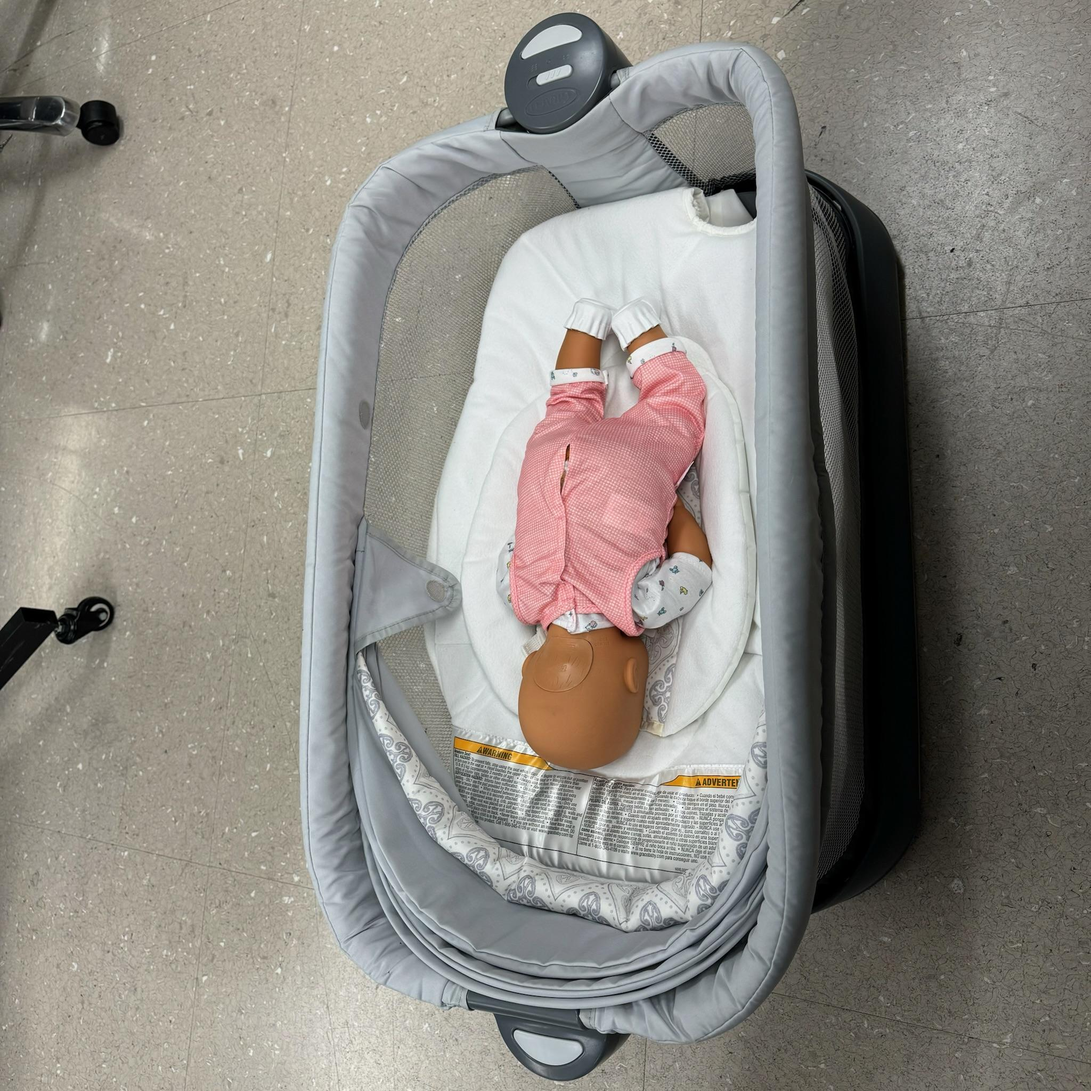baby: (478, 290, 717, 776)
